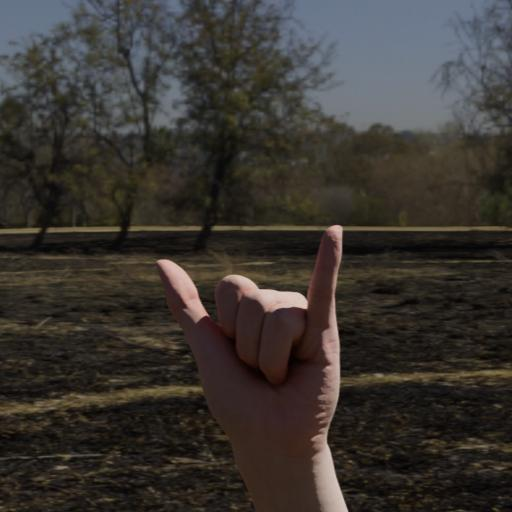Y: (109, 134, 383, 512)
